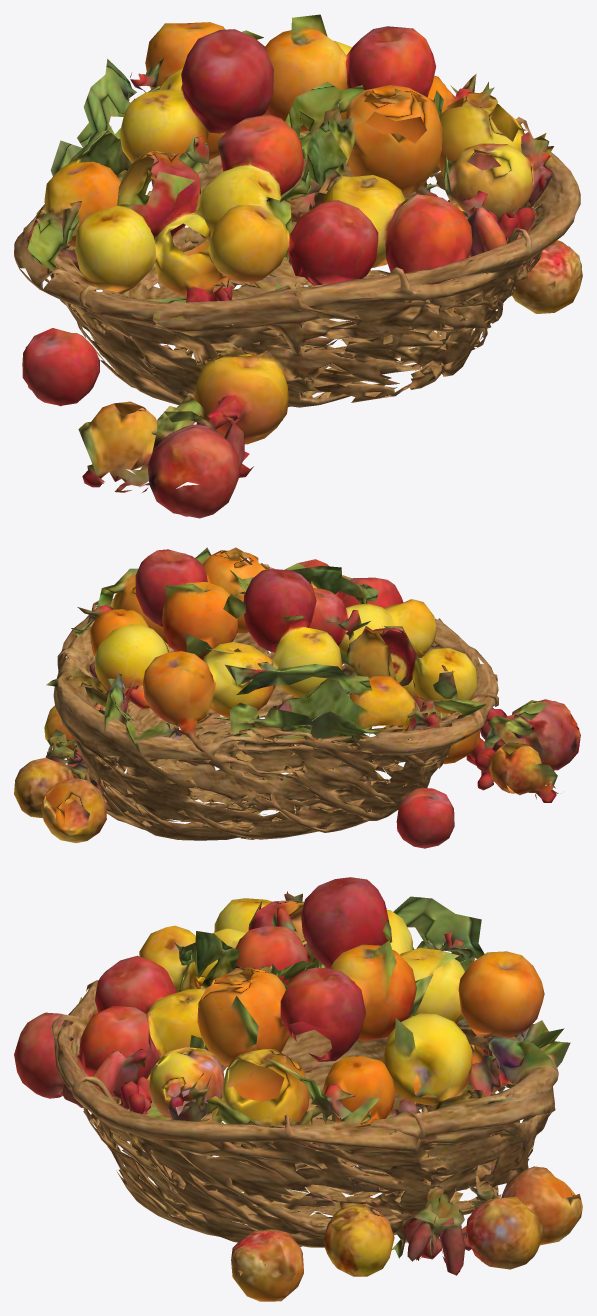
The model's file is prop_fruit_basket.glb.
The picture shows the model from 3 angles, top to bottom: view 1: azimuth 30°, elevation 25°; view 2: azimuth 150°, elevation 25°; view 3: azimuth 270°, elevation 25°; orthographic projection. The views are drawn at different scales.
Parts seen in each view (by area): view 1: world; view 2: world; view 3: world.
Boxes of the visible parts, x1,y1,x2,y2 form: world: (14,14,582,518); world: (14,547,580,848); world: (14,877,582,1301).
Size of the model in its own units: 0.9464 by 0.5174 by 0.8913.
Materials: 1 (1 with a texture image).
